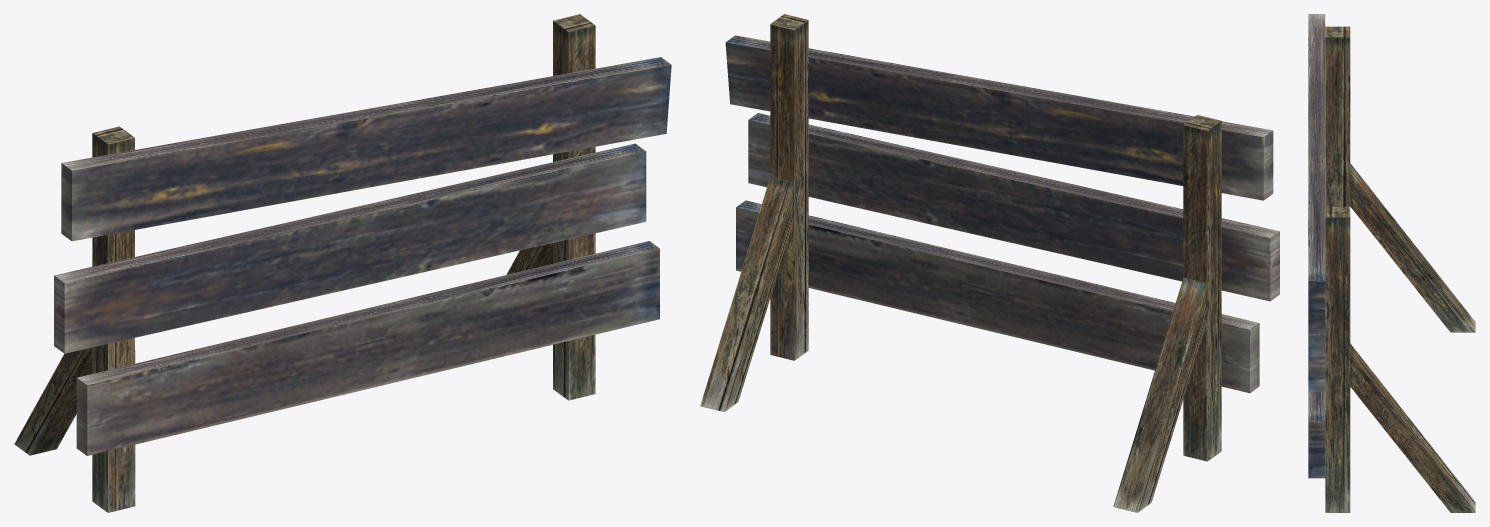
Rendered from m_opora2.glb.
3 renders of one model, left to right at view 1: azimuth 30°, elevation 25°; view 2: azimuth 150°, elevation 25°; view 3: azimuth 270°, elevation 25°, orthographic. The views are drawn at different scales.
Visible parts, largest first — view 1: m_opora2-col; view 2: m_opora2-col; view 3: m_opora2-col.
Part boxes in pixels (box(x1,y1,x2,y2)): m_opora2-col: box(14, 14, 671, 512); m_opora2-col: box(700, 14, 1279, 512); m_opora2-col: box(1308, 14, 1475, 512).
Bounding box in the file's own units: 2.24 × 1.3 × 0.668.
Materials: 2 (2 with a texture image).
